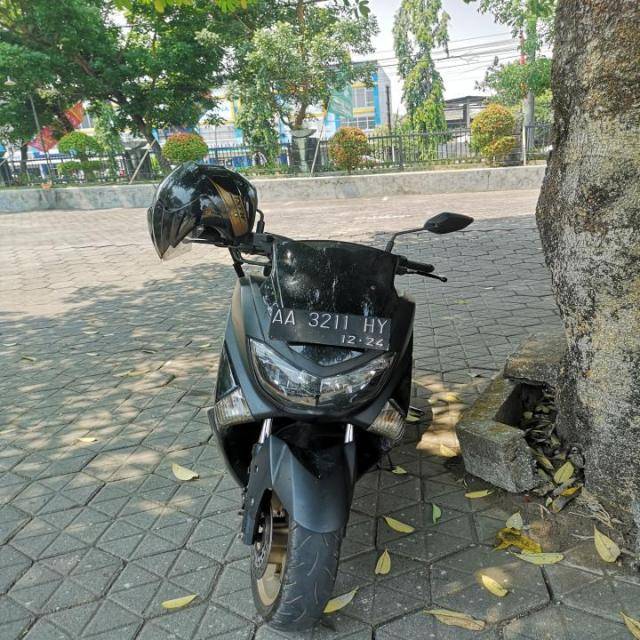License Plate: (264, 306, 389, 351)
